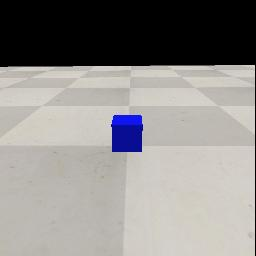box: (111, 115, 144, 152)
